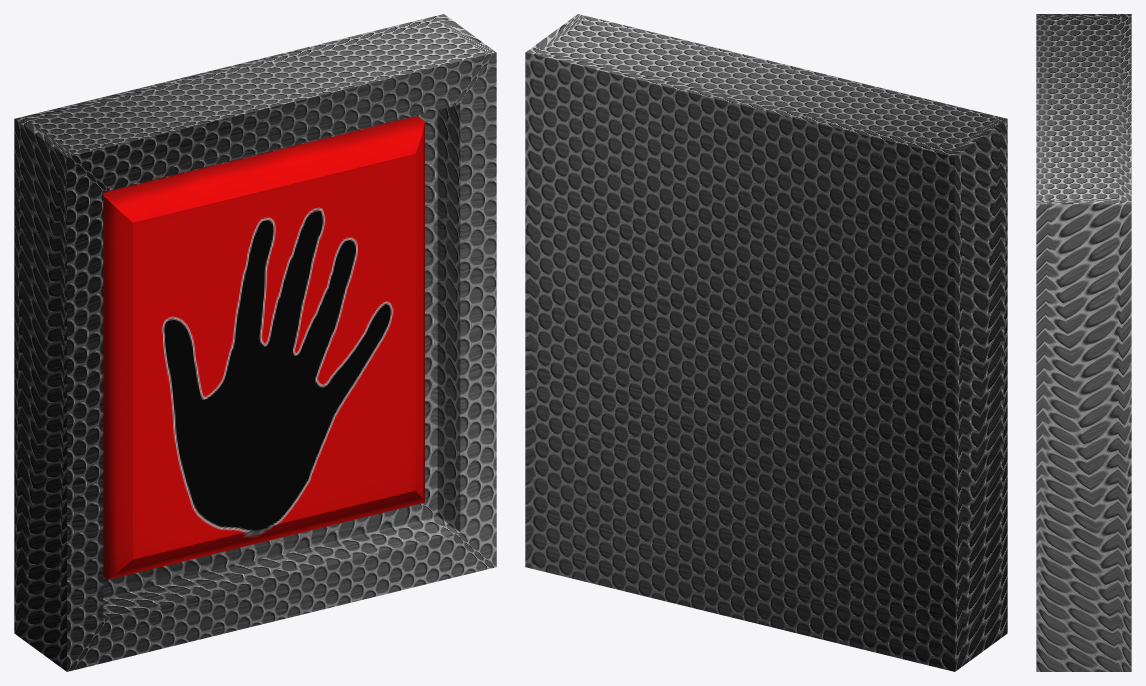
The model's file is RedTouchScreen.fbx.
3 renders of one model, left to right at view 1: azimuth 30°, elevation 25°; view 2: azimuth 150°, elevation 25°; view 3: azimuth 270°, elevation 25°, orthographic. The views are drawn at different scales.
Visible parts, largest first — view 1: pCube1; view 2: pCube1; view 3: pCube1.
Part boxes in pixels (x1,y1,x2,y2): pCube1: [14, 14, 496, 671]; pCube1: [525, 14, 1007, 671]; pCube1: [1036, 14, 1131, 671].
Size of the model in its own units: 4.81 by 5.51 by 1.02.
